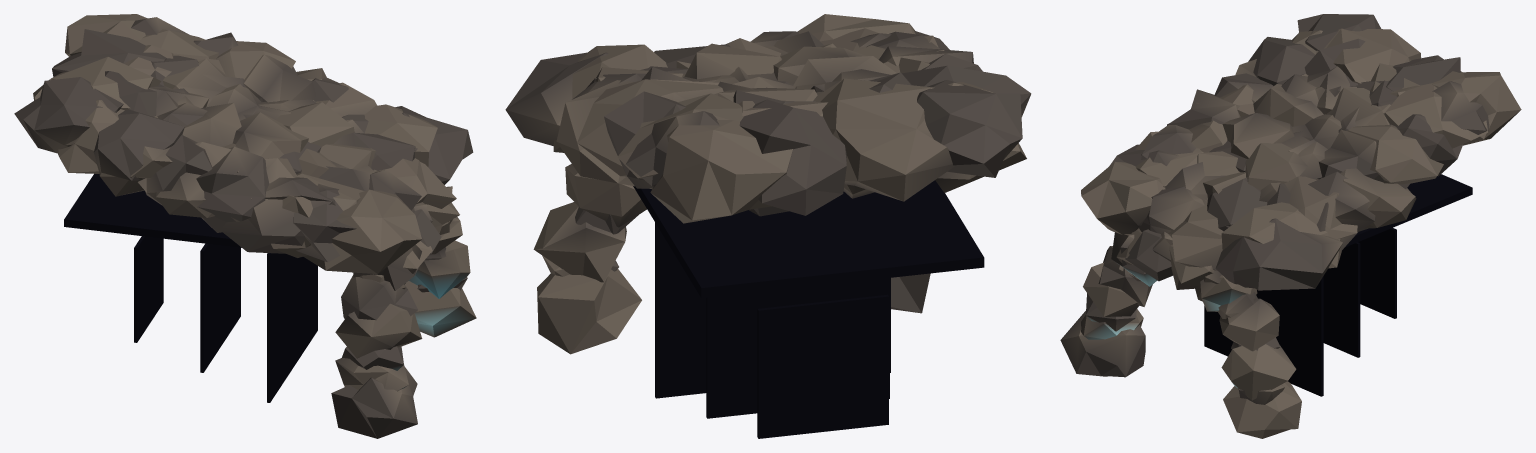
The model's file is coast_glasswyrm_cavern_lod1.glb.
The picture shows the model from 3 angles, left to right: view 1: azimuth 30°, elevation 25°; view 2: azimuth 150°, elevation 25°; view 3: azimuth 270°, elevation 25°; orthographic projection. The views are drawn at different scales.
Parts seen in each view (by area): view 1: geometry_0; view 2: geometry_0; view 3: geometry_0.
Boxes of the visible parts, x1,y1,x2,y2 form: geometry_0: (14, 14, 476, 438); geometry_0: (505, 14, 1031, 438); geometry_0: (1060, 14, 1521, 438).
Size of the model in its own units: 55.76 by 39.57 by 59.52.
